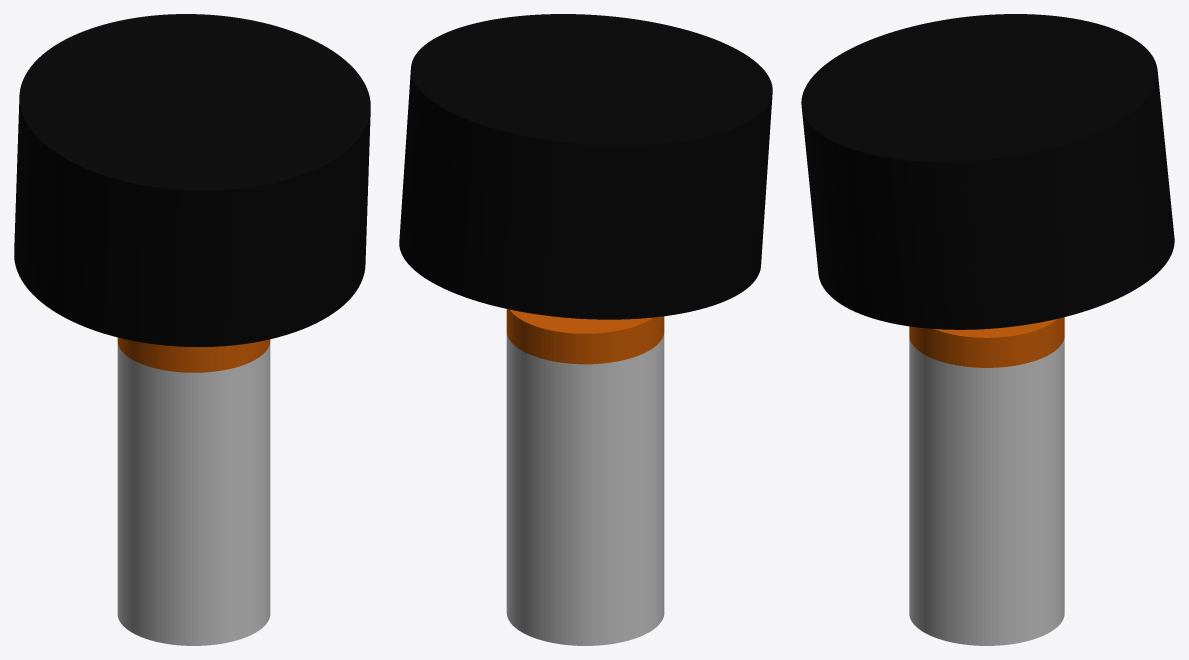
File: lamp28.obj
The picture shows the model from 3 angles, left to right: view 1: azimuth 30°, elevation 25°; view 2: azimuth 150°, elevation 25°; view 3: azimuth 270°, elevation 25°; orthographic projection. The views are drawn at different scales.
Parts seen in each view (by area): view 1: Cylinder.002, Cylinder, Cylinder.001; view 2: Cylinder.002, Cylinder, Cylinder.001; view 3: Cylinder.002, Cylinder, Cylinder.001.
Boxes of the visible parts, x1=… form: Cylinder.002: x1=14, y1=14, x2=370, y2=346; Cylinder: x1=117, y1=343, x2=270, y2=645; Cylinder.001: x1=117, y1=337, x2=270, y2=372; Cylinder.002: x1=399, y1=14, x2=772, y2=319; Cylinder: x1=506, y1=332, x2=664, y2=645; Cylinder.001: x1=506, y1=309, x2=664, y2=364; Cylinder.002: x1=801, y1=14, x2=1174, y2=329; Cylinder: x1=909, y1=338, x2=1064, y2=645; Cylinder.001: x1=909, y1=317, x2=1064, y2=367.
Size of what is drawn, in the model's own units: 4.64 by 7.64 by 4.8.
